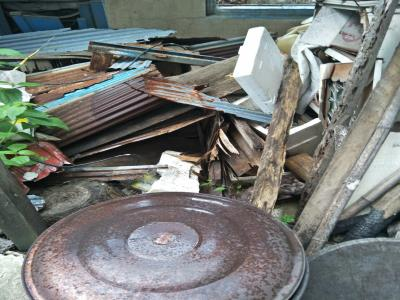plate: (20, 189, 308, 300)
styrofoam: (232, 25, 287, 114)
